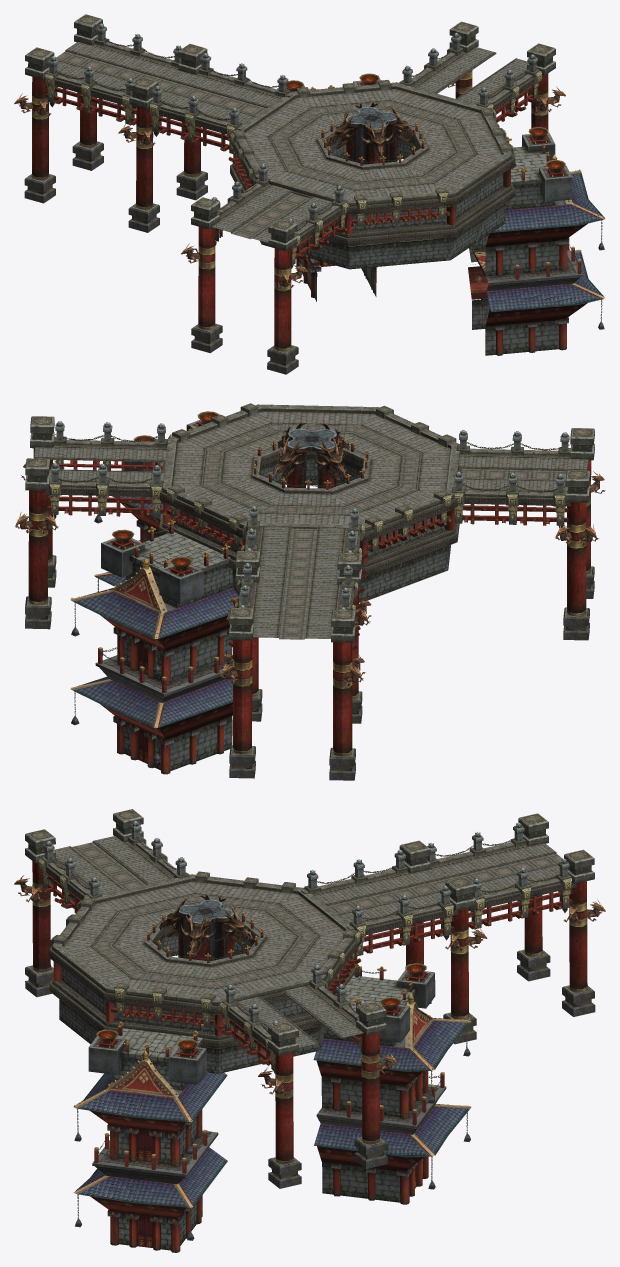
File: Xuanyuantai.FBX
3 views of the same model, one above another, from view 1: azimuth 30°, elevation 25°; view 2: azimuth 150°, elevation 25°; view 3: azimuth 270°, elevation 25° (orthographic). The views are drawn at different scales.
Parts seen in each view (by area): view 1: DrawCall_0021, DrawCall_0024, DrawCall_0028, DrawCall_0020, DrawCall_0046, DrawCall_0037, DrawCall_0025, DrawCall_0029, DrawCall_0027, DrawCall_0031, DrawCall_0022, DrawCall_0030 (+8 smaller); view 2: DrawCall_0021, DrawCall_0024, DrawCall_0042, DrawCall_0031, DrawCall_0020, DrawCall_0043, DrawCall_0046, DrawCall_0039, DrawCall_0025, DrawCall_0022, DrawCall_0040, DrawCall_0016 (+9 smaller); view 3: DrawCall_0021, DrawCall_0024, DrawCall_0042, DrawCall_0028, DrawCall_0031, DrawCall_0046, DrawCall_0029, DrawCall_0037, DrawCall_0027, DrawCall_0039, DrawCall_0043, DrawCall_0025 (+10 smaller).
Boxes of the visible parts, box(x1,y1,x2,y2) form: DrawCall_0021: box(244, 88, 502, 199); DrawCall_0024: box(228, 80, 516, 246); DrawCall_0028: box(472, 127, 602, 355); DrawCall_0020: box(191, 176, 355, 374); DrawCall_0046: box(24, 14, 181, 203); DrawCall_0037: box(128, 44, 293, 232); DrawCall_0025: box(233, 117, 510, 269); DrawCall_0029: box(468, 134, 605, 330); DrawCall_0027: box(475, 171, 603, 312); DrawCall_0031: box(399, 21, 555, 129); DrawCall_0022: box(271, 101, 474, 189); DrawCall_0030: box(402, 32, 565, 112); DrawCall_0021: box(172, 411, 450, 524); DrawCall_0024: box(159, 403, 461, 576); DrawCall_0042: box(74, 519, 232, 774); DrawCall_0031: box(25, 416, 168, 629); DrawCall_0020: box(448, 428, 594, 640); DrawCall_0043: box(70, 540, 232, 763); DrawCall_0046: box(228, 577, 362, 780); DrawCall_0039: box(73, 587, 239, 727); DrawCall_0025: box(163, 440, 454, 601); DrawCall_0022: box(203, 424, 419, 514); DrawCall_0040: box(220, 563, 365, 686); DrawCall_0016: box(454, 430, 605, 545); DrawCall_0021: box(64, 881, 344, 998); DrawCall_0024: box(49, 871, 361, 1048); DrawCall_0042: box(321, 963, 467, 1204); DrawCall_0028: box(77, 1015, 206, 1252); DrawCall_0031: box(213, 978, 387, 1188); DrawCall_0046: box(427, 813, 595, 1016); DrawCall_0029: box(73, 1038, 218, 1247); DrawCall_0037: box(301, 840, 476, 1044); DrawCall_0027: box(76, 1071, 227, 1207); DrawCall_0039: box(313, 1018, 469, 1157); DrawCall_0043: box(316, 971, 471, 1189); DrawCall_0025: box(53, 912, 357, 1073).
Size of the model in its own units: 9164 by 4735 by 9692.
